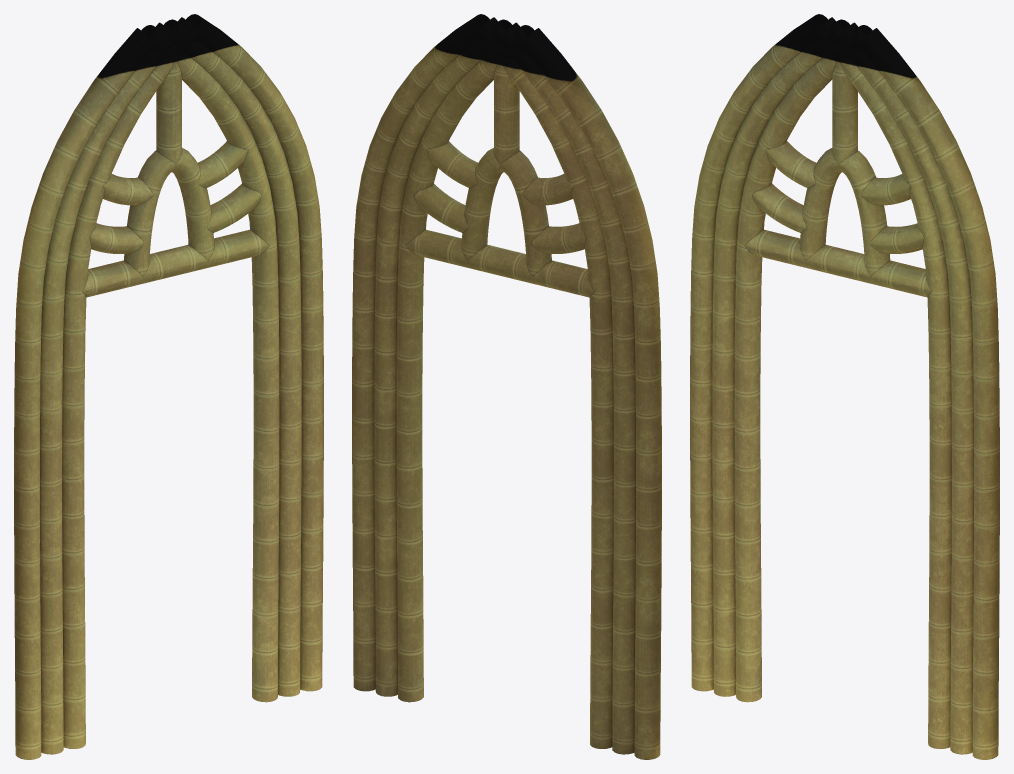
File: Bamboo Door_LOD0.glb
3 views of the same model, side by side, from view 1: azimuth 30°, elevation 25°; view 2: azimuth 150°, elevation 25°; view 3: azimuth 330°, elevation 25° (orthographic).
Visible parts, largest first — view 1: Bamboo Door_PROCESSED.001_LOD0; view 2: Bamboo Door_PROCESSED.001_LOD0; view 3: Bamboo Door_PROCESSED.001_LOD0.
Part boxes in pixels (x1=…): Bamboo Door_PROCESSED.001_LOD0: x1=14, y1=14, x2=323, y2=759; Bamboo Door_PROCESSED.001_LOD0: x1=352, y1=14, x2=661, y2=759; Bamboo Door_PROCESSED.001_LOD0: x1=690, y1=14, x2=999, y2=759.
Size of the model in its own units: 5.17 by 11.25 by 0.4057.
Materials: 1 (1 with a texture image).
